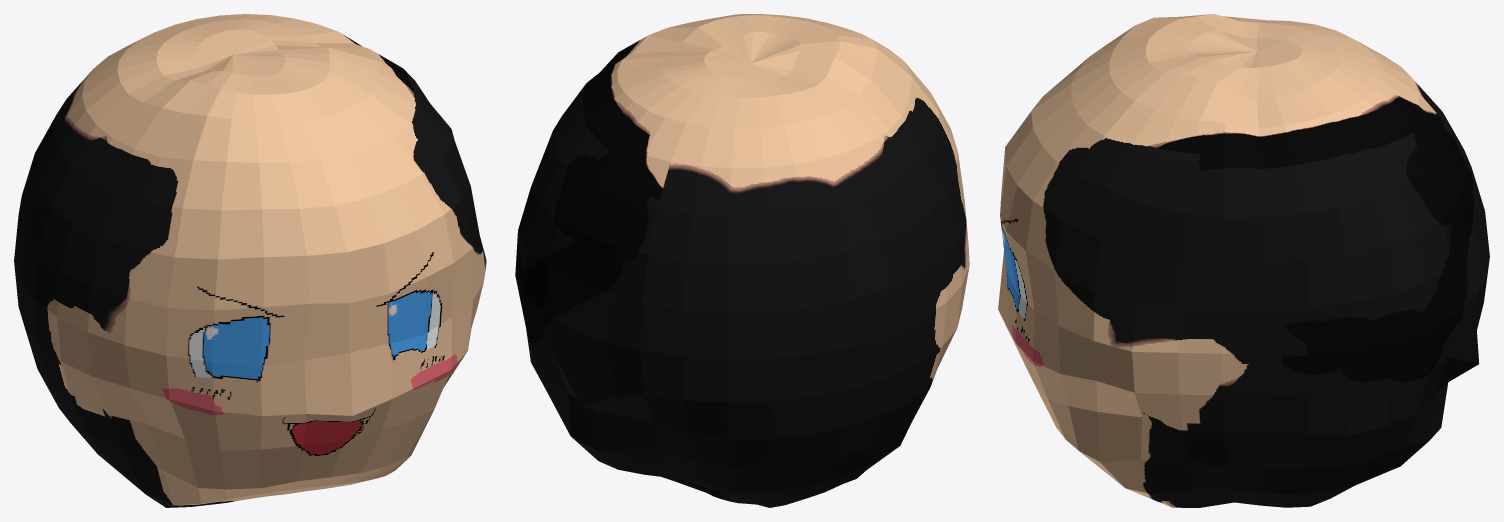
The model's file is player.obj.
The picture shows the model from 3 angles, left to right: view 1: azimuth 30°, elevation 25°; view 2: azimuth 150°, elevation 25°; view 3: azimuth 270°, elevation 25°; orthographic projection. The views are drawn at different scales.
Visible parts, largest first — view 1: 球; view 2: 球; view 3: 球.
Part boxes in pixels (left/top/right/bottom): 球: left=14, top=14, right=486, bottom=507; 球: left=515, top=14, right=969, bottom=507; 球: left=998, top=14, right=1489, bottom=507.
Size of the model in its own units: 0.9199 by 1.03 by 1.03.
2 materials, 2 textured.
